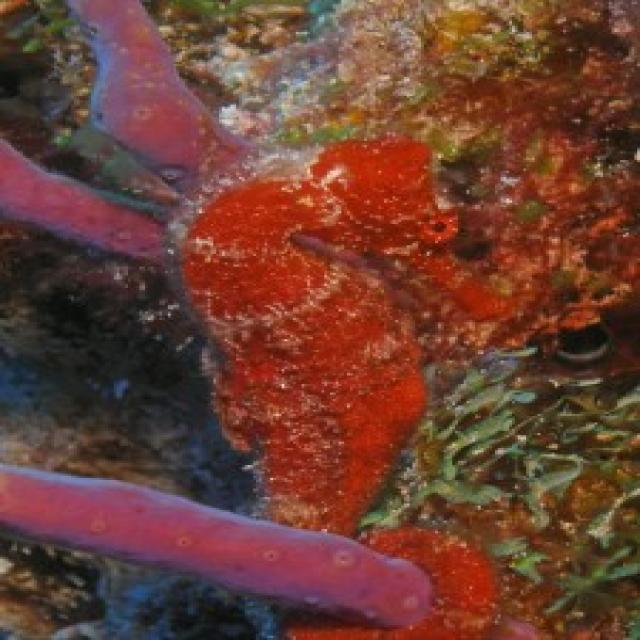Seahorse: (173, 125, 510, 640)
